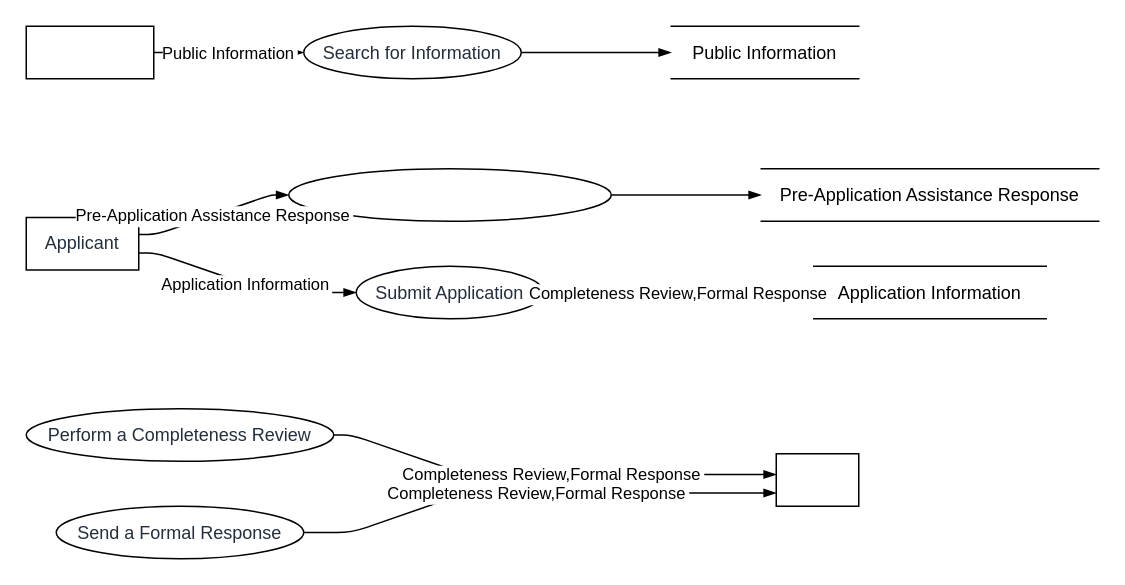
Image size: 1125x585. Some labels were removed from this diagram. The shapes that lost their labels are listed below. From the top down, each one's centre as x and y in pixels, then its label:
point 89,52: Public User
point 449,194: Request Pre-Application Assistance
point 817,479: Staff
